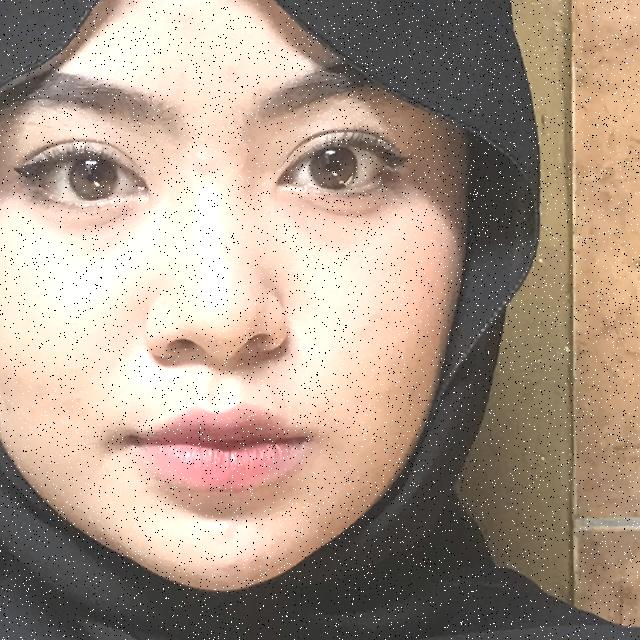ibu: (0, 206, 250, 640)
